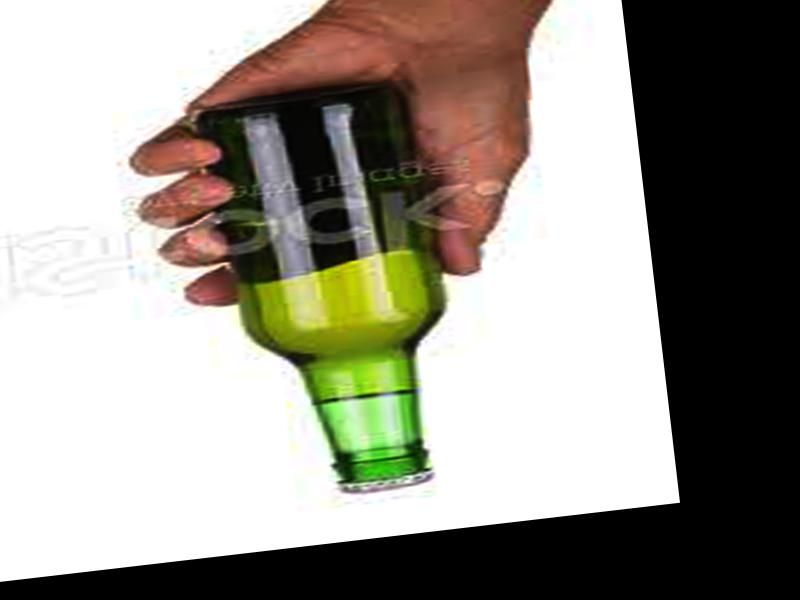Beer: (207, 78, 471, 505)
